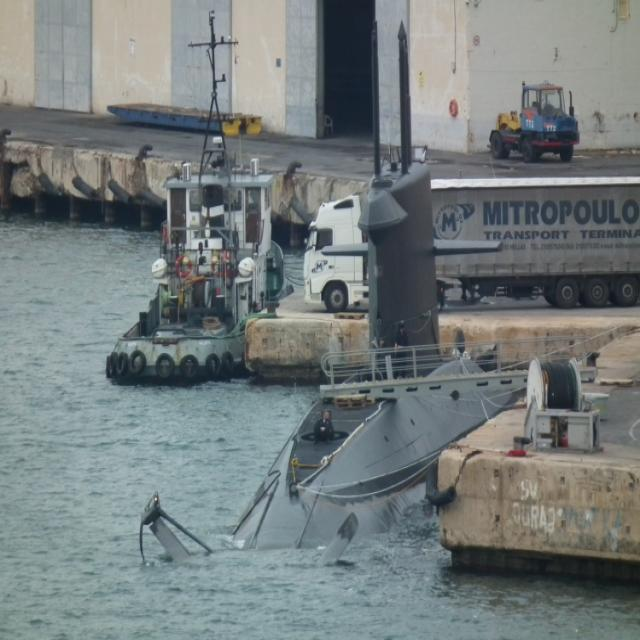submarine: (140, 172, 575, 569)
